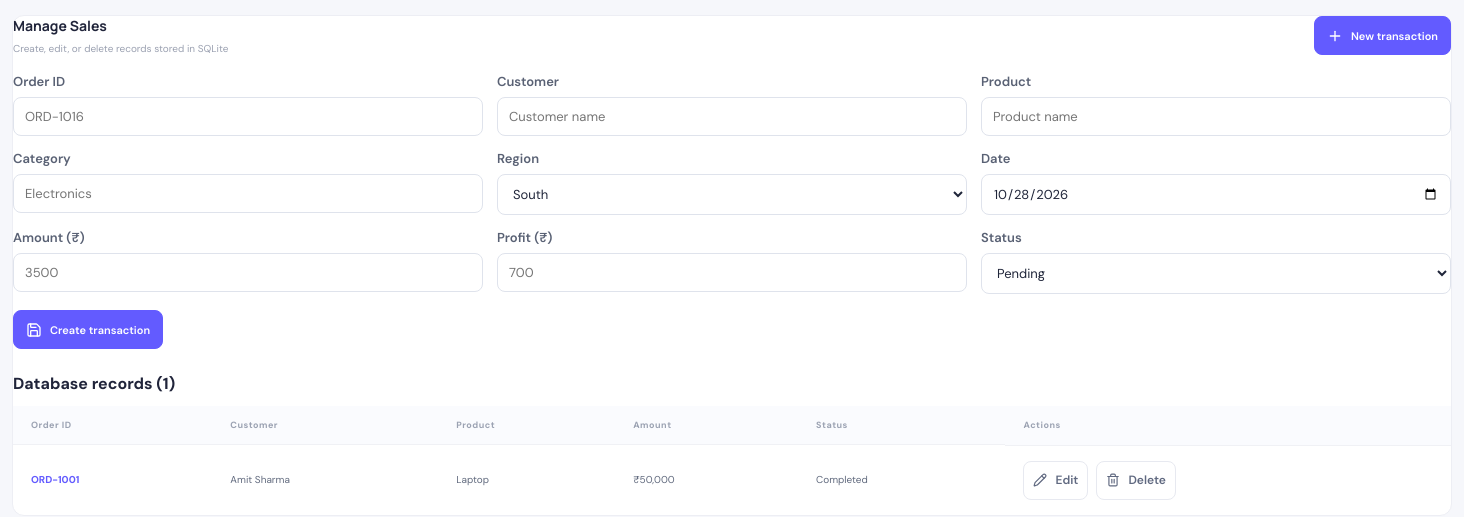
Test case: SalesManager › loads a record into the form when Edit is clicked
Click the button with aria-label "Edit ORD-1001".
click(1056, 480)  # box [1024, 460, 1088, 500]
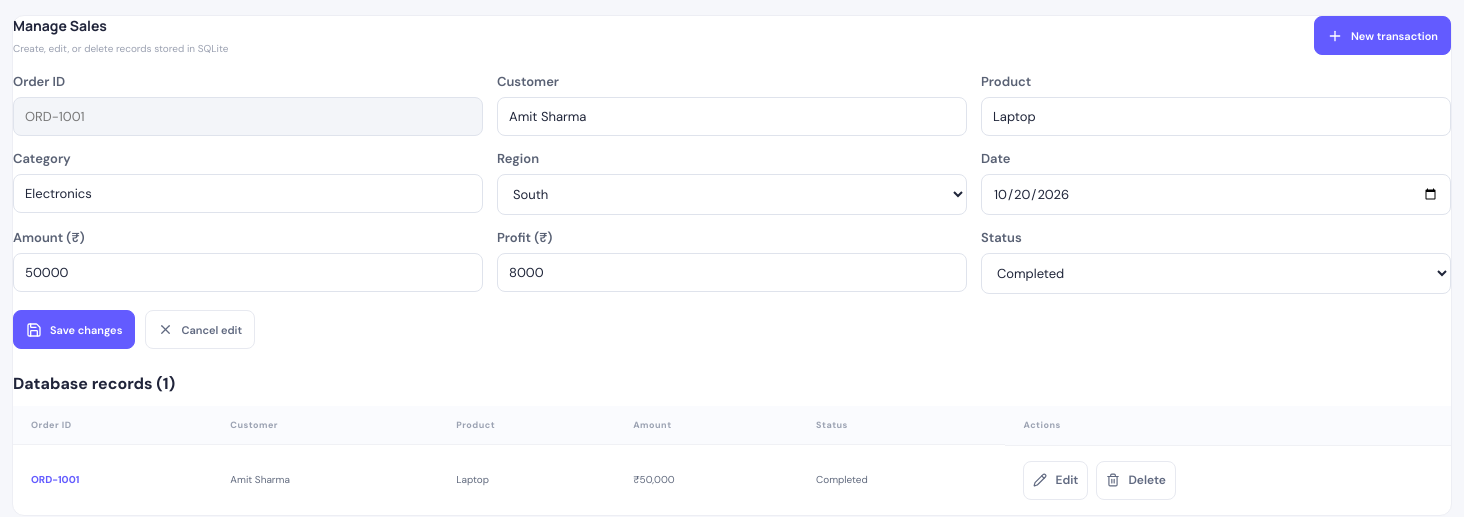
Expected: the field labelled "Order ID" holds "ORD-1001", [13, 97, 483, 136]
Expected: the field labelled "Customer" holds "Amit Sharma", [497, 97, 967, 136]
Expected: the field labelled "Product" holds "Laptop", [981, 97, 1451, 136]
